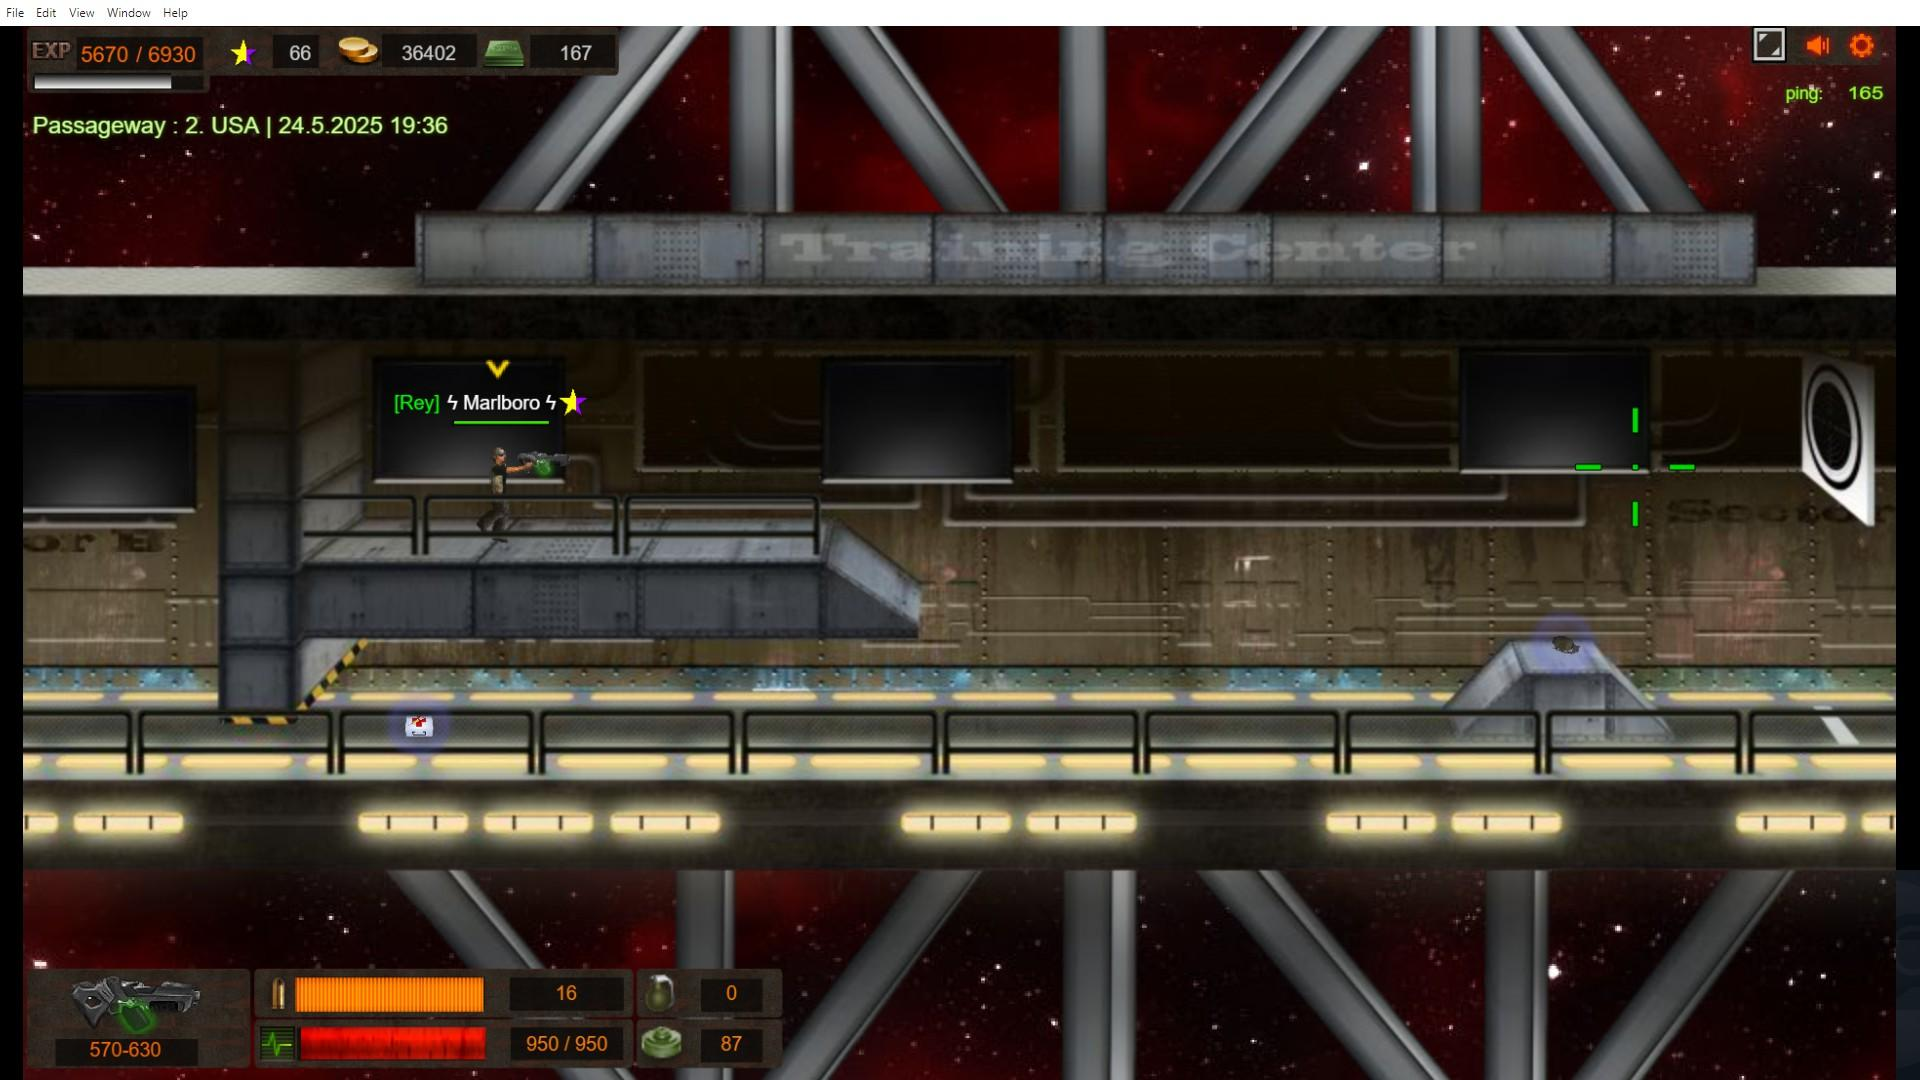enemy: (487, 446, 512, 541)
